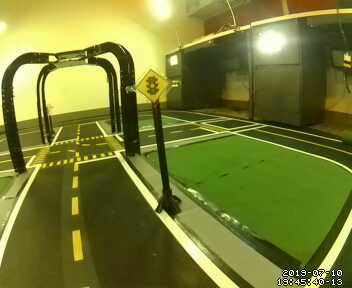Traffic light sign: (135, 66, 176, 102)
